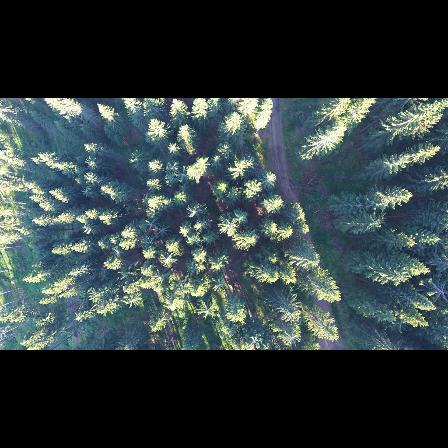Sick: (430, 280, 448, 304), (155, 223, 170, 238)
